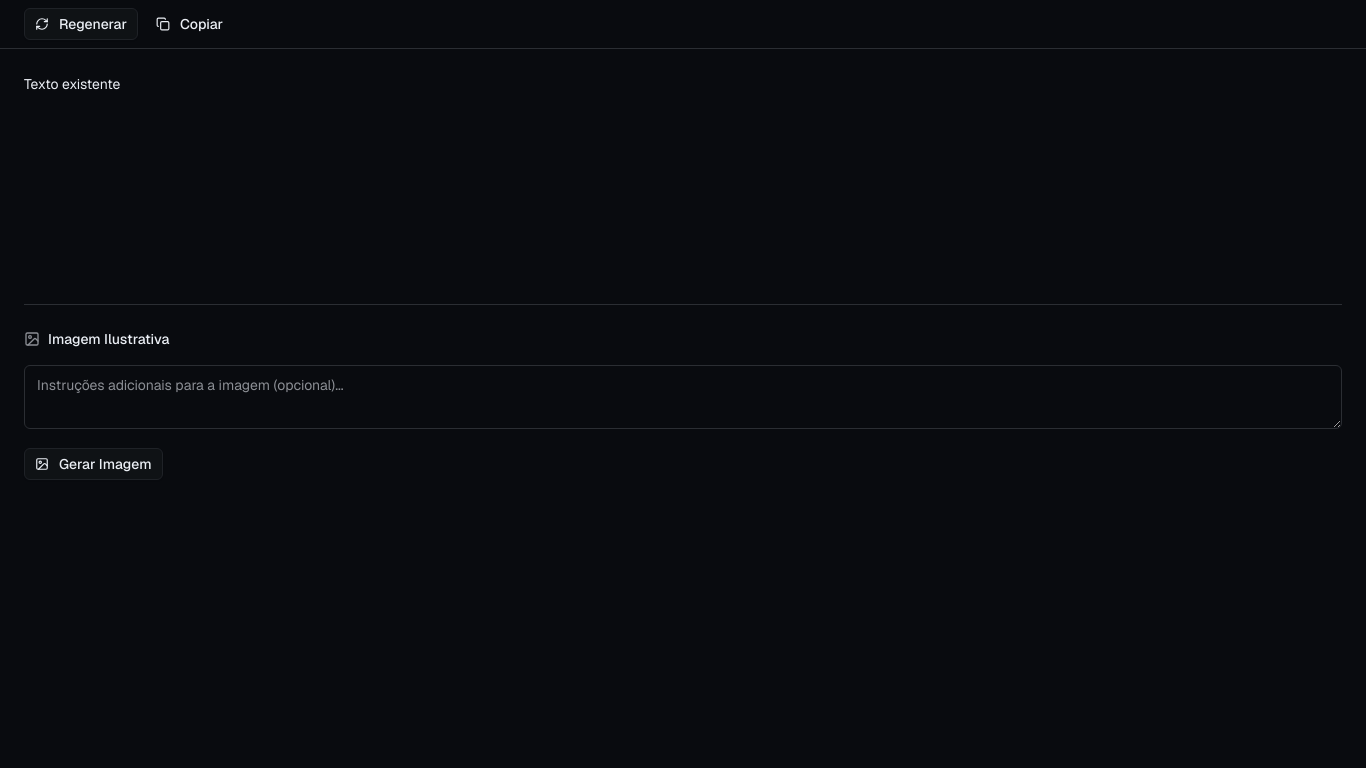
Test: NewsSocialPhase › shows inline error when regeneration fails with existing text
Click regenerate to show context input, then confirm
Click the button with test id "regenerate-social-button" at (81, 24), box [24,8,138,40]
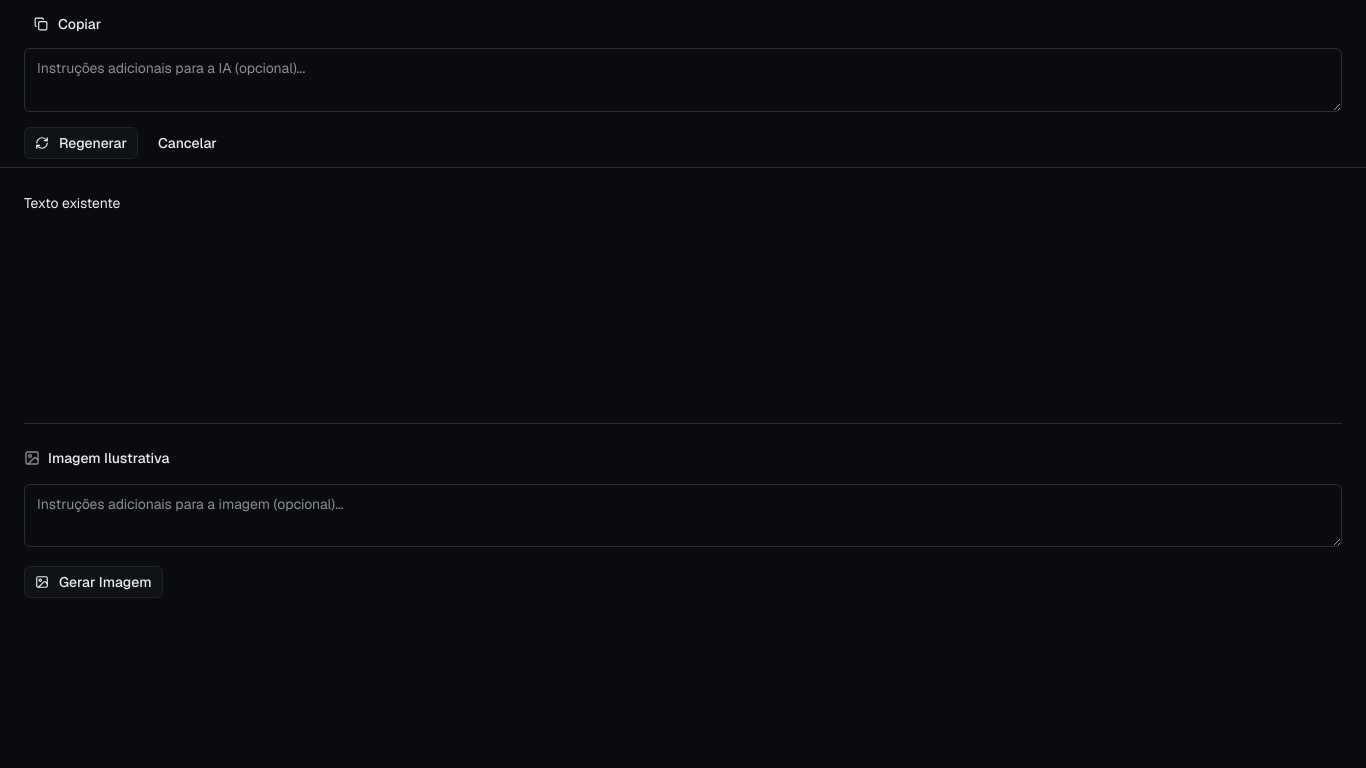
Click the button with test id "confirm-regenerate-button" at (81, 142), box [24,126,138,158]
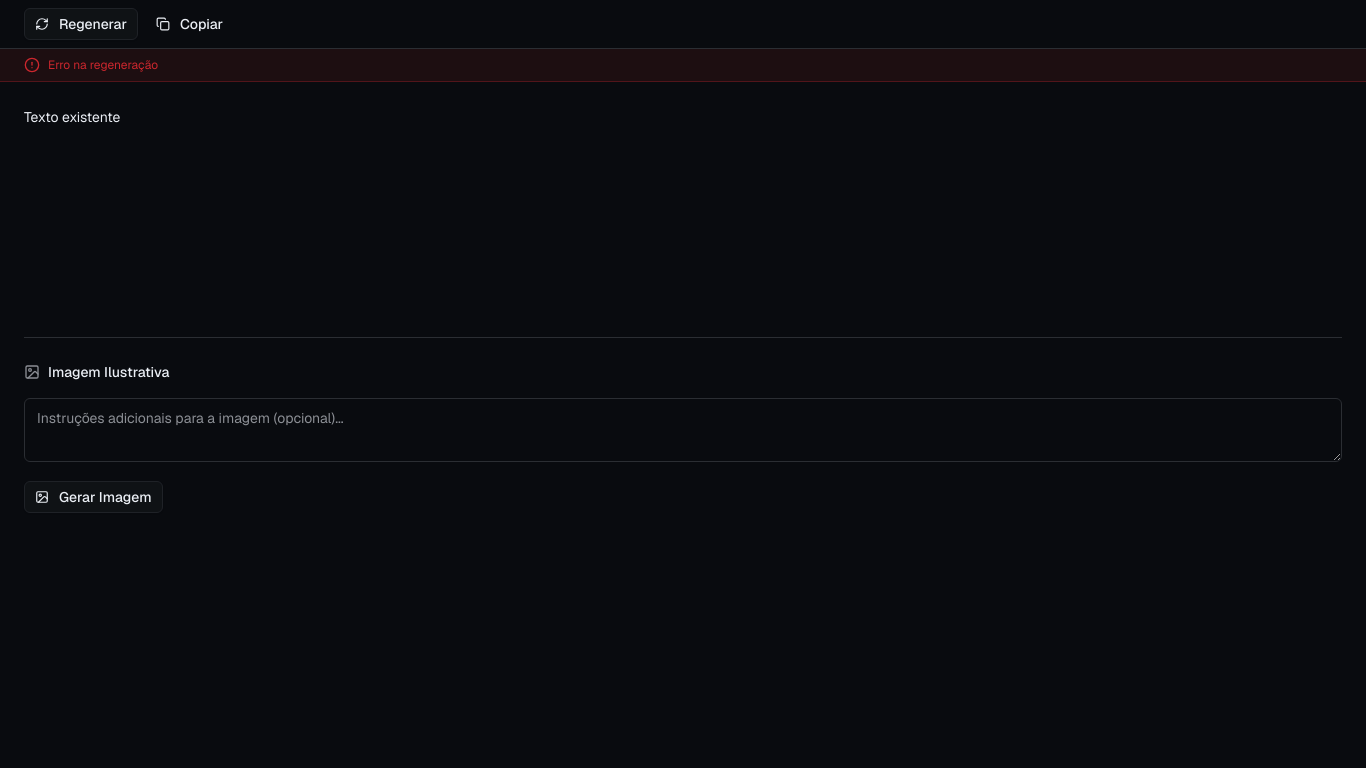
Expected: the text box with test id "social-editor" holds "Texto existente", [24,106,1342,306]
Expected: the element with test id "social-inline-error" is shown, [0,49,1365,82]
Expected: the text "Erro na regeneração" is shown, [48,57,158,73]
